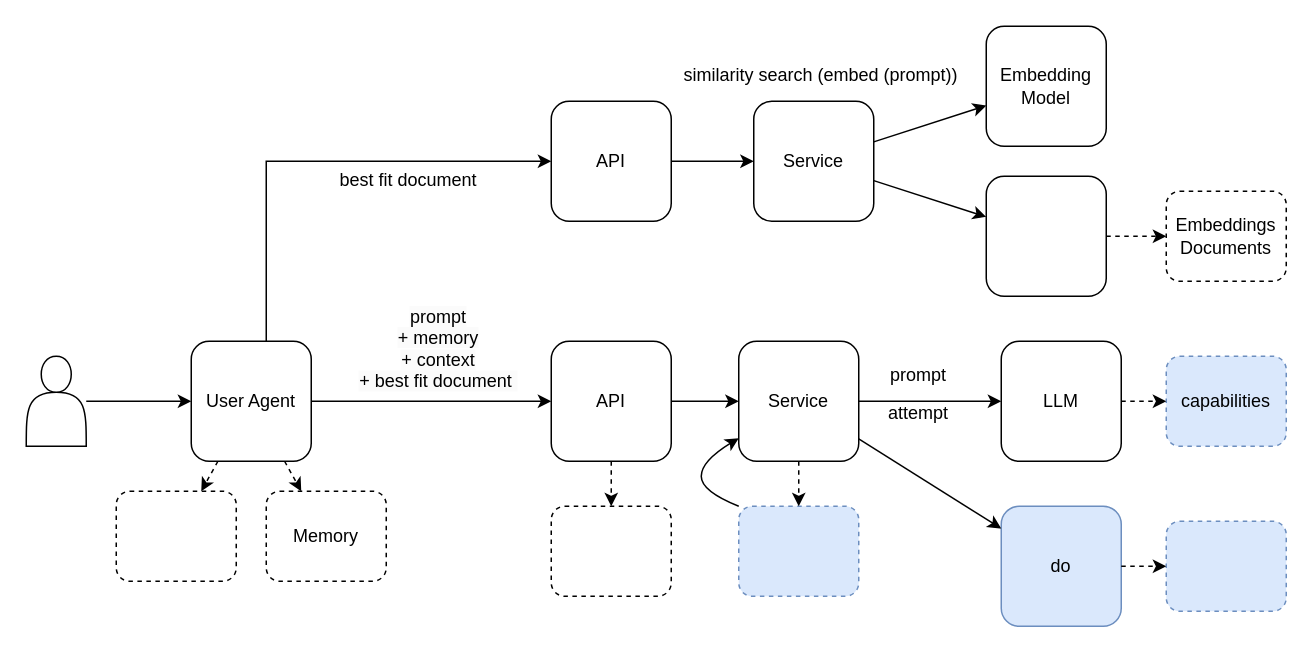
Image size: 1313x653. Some labels were removed from this diagram. The shapes that lost their labels are listed below. From the top down, each one's centre as x and y in pixels, then its label:
point (1045, 235): Vector Store
point (175, 535): Context
point (610, 550): Auth
point (798, 550): Quality
point (1225, 565): anything
